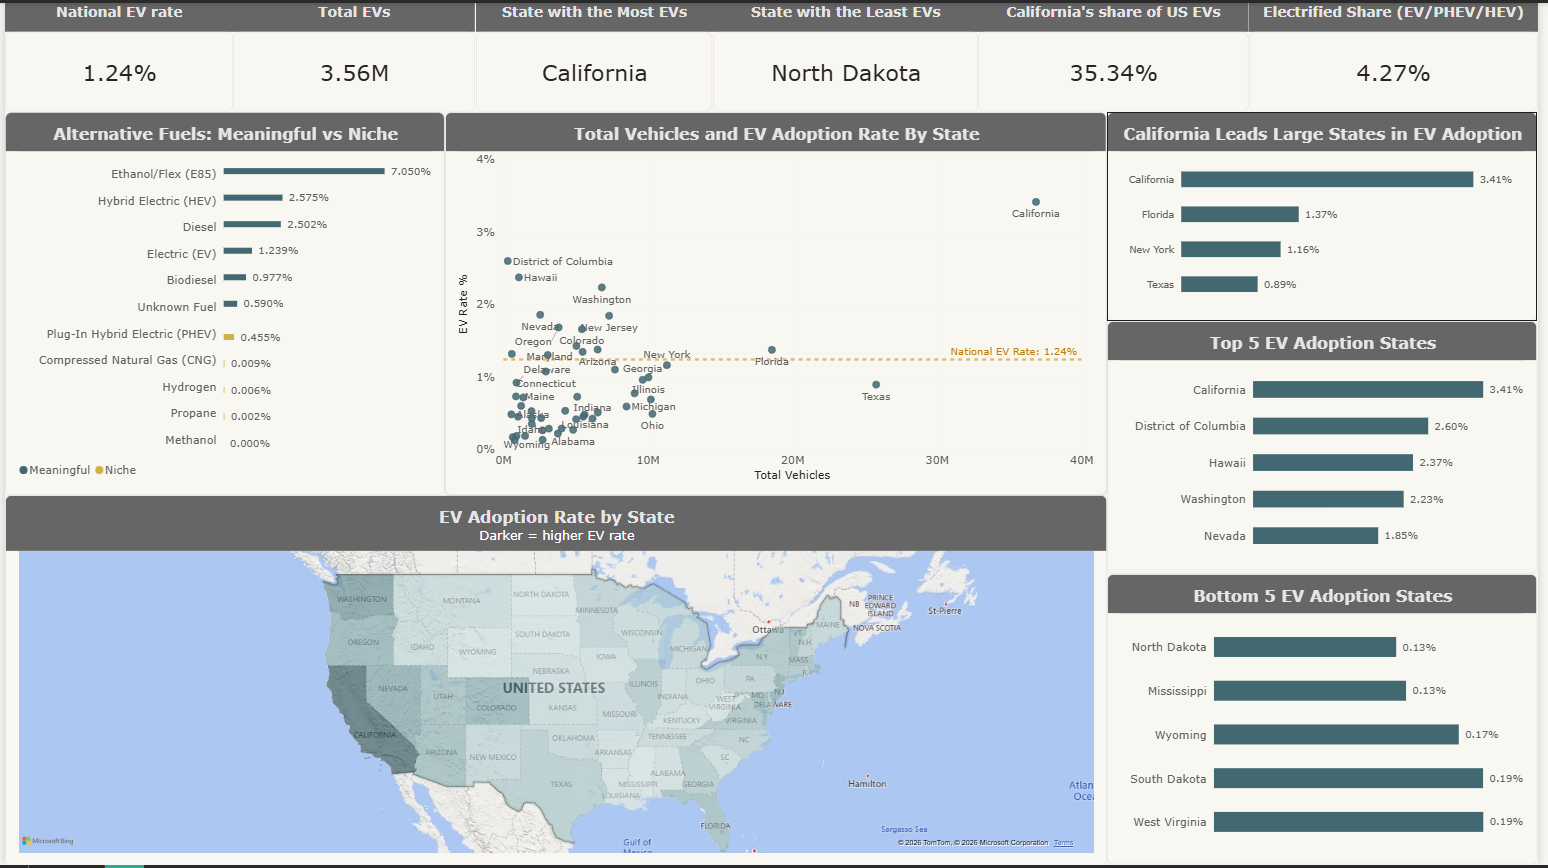

This screenshot's page, from the dashboard's own definition file:
{"tool":"powerbi","page":{"name":"Page 1","canvas":[1920,1080],"ordinal":0},"visuals":[{"type":"clusteredBarChart","title":"Alternative Fuels: Meaningful vs Niche","fields":{"Category":["Vehicle Data.Fuel Type"],"Series":["Vehicle Data.Usage Group"],"Y":["Vehicle Data.Share %"]},"box":[0,136.5,551.2,479.7],"z":0},{"type":"filledMap","title":"EV Adoption Rate by State","fields":{"Category":["Vehicle Data.State"]},"box":[0,616.1,1380.7,465.1],"z":1000},{"type":"clusteredBarChart","title":"Top 5 EV Adoption States","fields":{"Category":["Vehicle Data.State"],"Y":["Vehicle Data.EV Rate %"]},"box":[1380.7,398.8,539.3,316.7],"z":2000},{"type":"cardVisual","title":"National EV rate","fields":{"Data":["Vehicle Data.EV Rate %"]},"box":[0,0,286.2,136.5],"z":3000},{"type":"cardVisual","title":"Total EVs","fields":{"Data":["Vehicle Data.Total Vehicles"]},"box":[286.2,0,303.4,136.5],"z":4000},{"type":"clusteredBarChart","title":"Bottom 5 EV Adoption States","fields":{"Category":["Vehicle Data.State"],"Y":["Vehicle Data.EV Rate %"]},"box":[1380.7,715.5,539.3,364.4],"z":5000},{"type":"cardVisual","title":"State with the Most EVs","fields":{"Data":["Min(Vehicle Data.State)"]},"box":[589.6,0,296.8,136.5],"z":6000},{"type":"scatterChart","title":"Total Vehicles and EV Adoption Rate By State","fields":{"Category":["Vehicle Data.State"],"X":["Vehicle Data.Total Vehicles"],"Y":["Vehicle Data.EV Rate %"]},"box":[551.2,136.5,829.5,479.7],"z":7000},{"type":"cardVisual","title":"State with the Least EVs","fields":{"Data":["Min(Vehicle Data.State)"]},"box":[886.5,0,332.6,136.5],"z":8000},{"type":"cardVisual","title":"California''s share of US EVs","fields":{"Data":["Vehicle Data.EV Share of US %"]},"box":[1219,0,339.2,136.5],"z":9000},{"type":"clusteredBarChart","title":"California Leads Large States in EV Adoption","fields":{"Category":["Vehicle Data.State"],"Y":["Vehicle Data.EV Rate %"]},"box":[1380.7,136.5,539.3,262.4],"z":10000},{"type":"cardVisual","title":"Electrified Share (EV/PHEV/HEV)","fields":{"Data":["Vehicle Data.Electrified Share %"]},"box":[1558.3,0,361.7,136.5],"z":11000}]}

Visuals, with their boxes in screenshot pixels (x1, y1, x2, y2), scaled from the page's 1920x1080 canvas onto the 1548x868 screenshot:
"Alternative Fuels: Meaningful vs Niche" clusteredBarChart: locate(0, 110, 444, 495)
"EV Adoption Rate by State" filledMap: locate(0, 495, 1113, 867)
"Top 5 EV Adoption States" clusteredBarChart: locate(1113, 321, 1547, 575)
"National EV rate" cardVisual: locate(0, 0, 231, 110)
"Total EVs" cardVisual: locate(231, 0, 475, 110)
"Bottom 5 EV Adoption States" clusteredBarChart: locate(1113, 575, 1547, 867)
"State with the Most EVs" cardVisual: locate(475, 0, 715, 110)
"Total Vehicles and EV Adoption Rate By State" scatterChart: locate(444, 110, 1113, 495)
"State with the Least EVs" cardVisual: locate(715, 0, 983, 110)
"California''s share of US EVs" cardVisual: locate(983, 0, 1256, 110)
"California Leads Large States in EV Adoption" clusteredBarChart: locate(1113, 110, 1547, 321)
"Electrified Share (EV/PHEV/HEV)" cardVisual: locate(1256, 0, 1547, 110)
